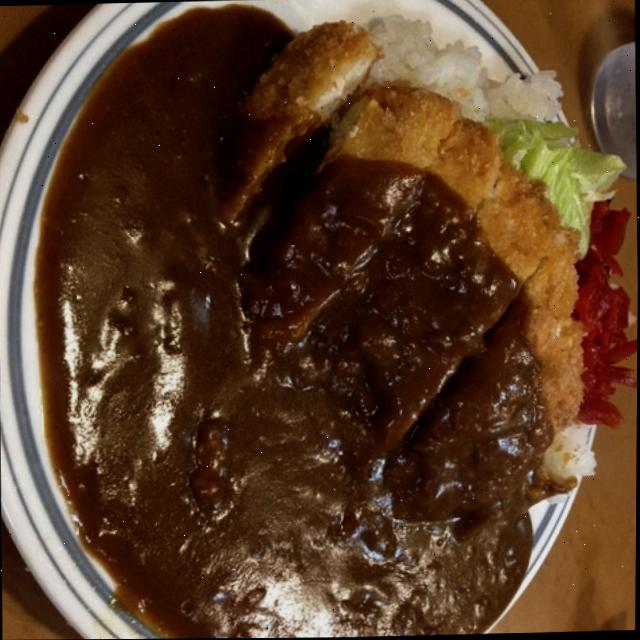炸货点心: (20, 0, 640, 640)
